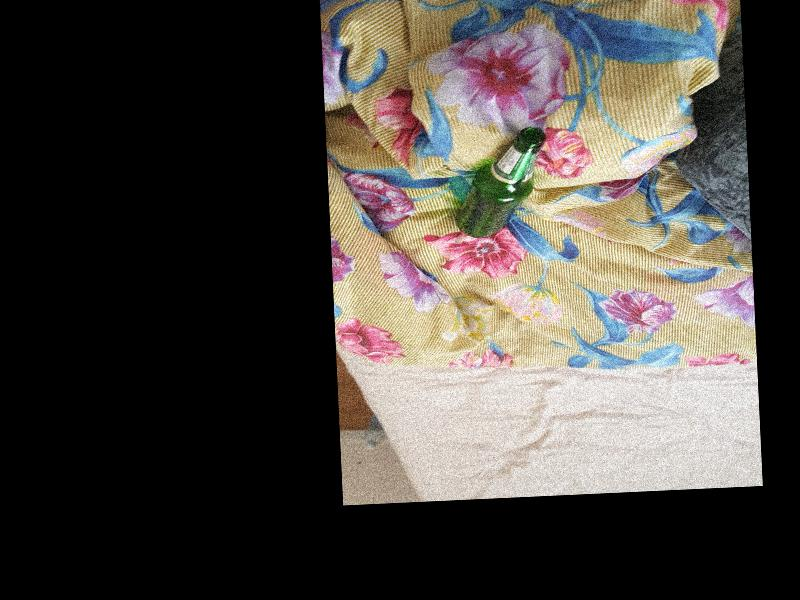Beer: (451, 125, 548, 238)
